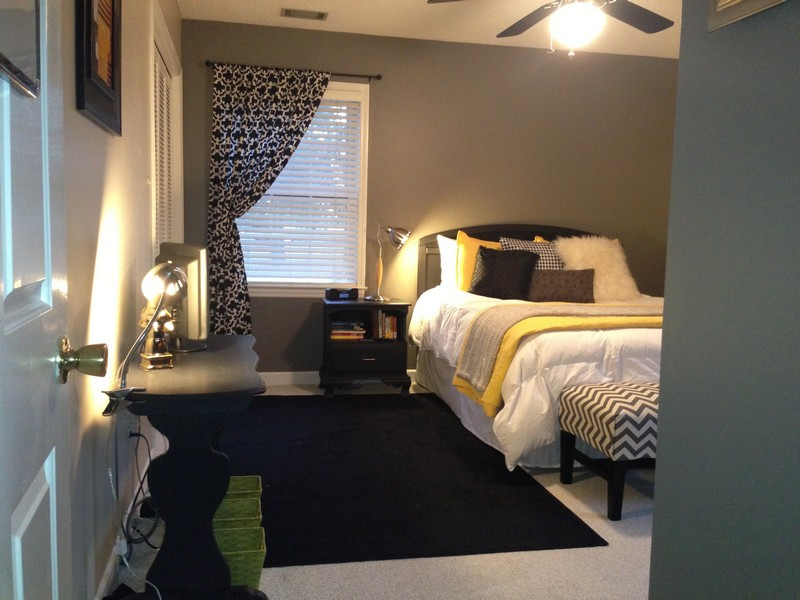bed: (414, 224, 657, 524)
door: (3, 66, 98, 596)
lamp: (119, 259, 196, 397), (369, 218, 410, 309)
stool: (321, 287, 412, 401)
table: (123, 331, 268, 597)
